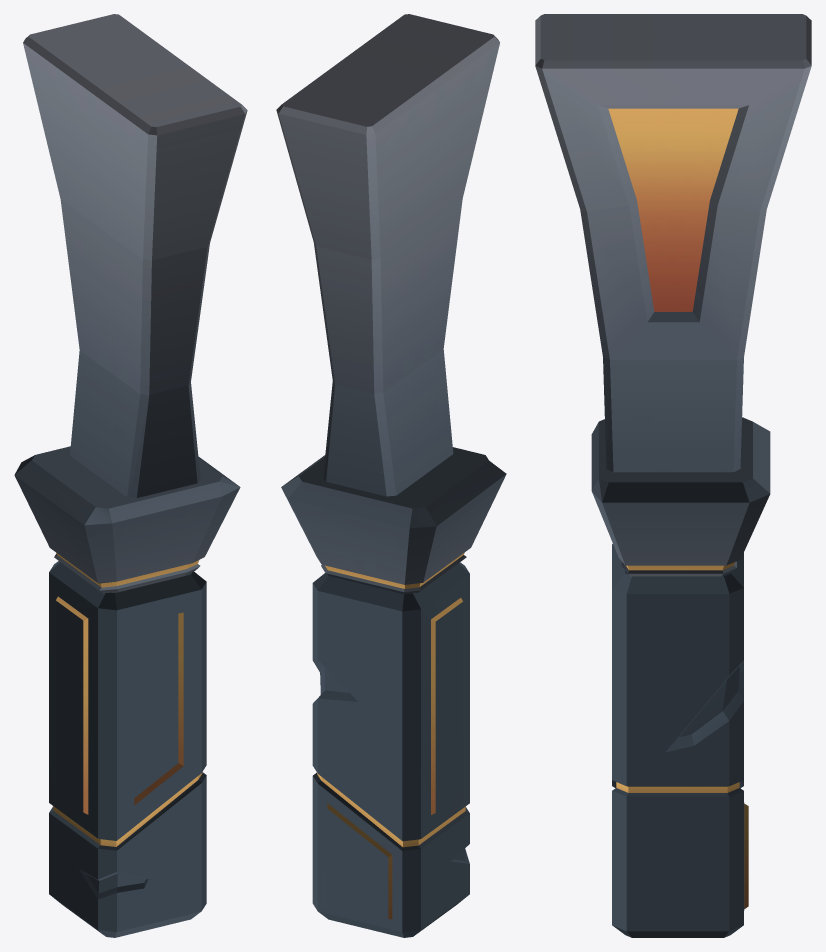
File: stone3.obj
3 renders of one model, left to right at view 1: azimuth 30°, elevation 25°; view 2: azimuth 150°, elevation 25°; view 3: azimuth 270°, elevation 25°, orthographic. The views are drawn at different scales.
Parts seen in each view (by area): view 1: Alien_blockD_(1), Alien_blockA, Alien_blockC_(1); view 2: Alien_blockD_(1), Alien_blockA, Alien_blockC_(1); view 3: Alien_blockD_(1), Alien_blockA, Alien_blockC_(1).
Part boxes in pixels (left/top/right/bottom): Alien_blockD_(1): left=23, top=14, right=247, bottom=498; Alien_blockA: left=49, top=561, right=206, bottom=937; Alien_blockC_(1): left=14, top=446, right=240, bottom=593; Alien_blockD_(1): left=276, top=14, right=499, bottom=496; Alien_blockA: left=312, top=562, right=469, bottom=937; Alien_blockC_(1): left=281, top=447, right=506, bottom=592; Alien_blockD_(1): left=535, top=14, right=811, bottom=472; Alien_blockA: left=612, top=544, right=748, bottom=937; Alien_blockC_(1): left=591, top=417, right=770, bottom=576.
Size of the model in its own units: 504 by 2589 by 737.
Materials: 1 (1 with a texture image).
